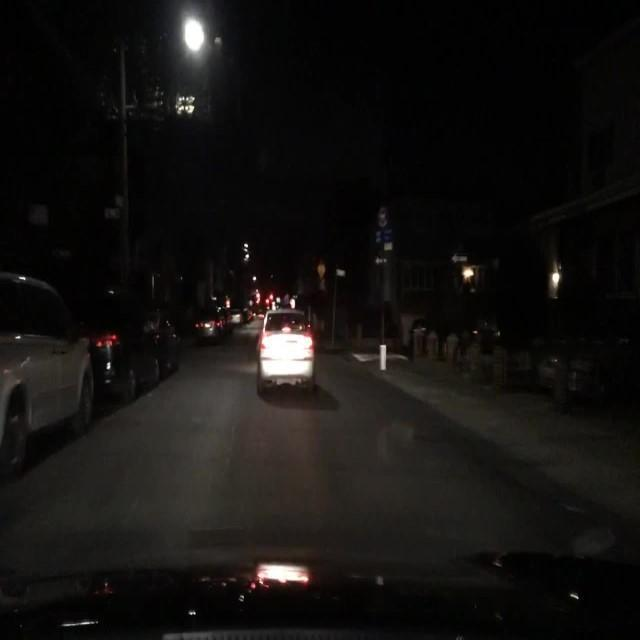normal: (0, 268, 96, 476), (257, 311, 319, 396), (194, 305, 230, 348)
